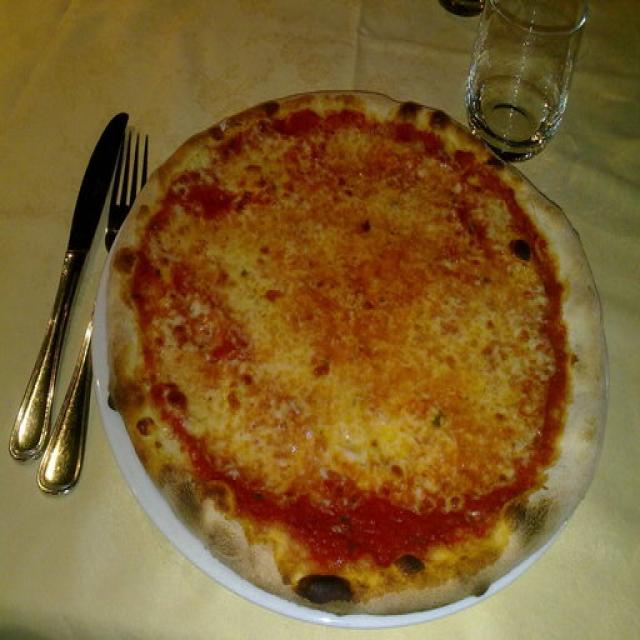Pizza: (92, 92, 608, 615)
